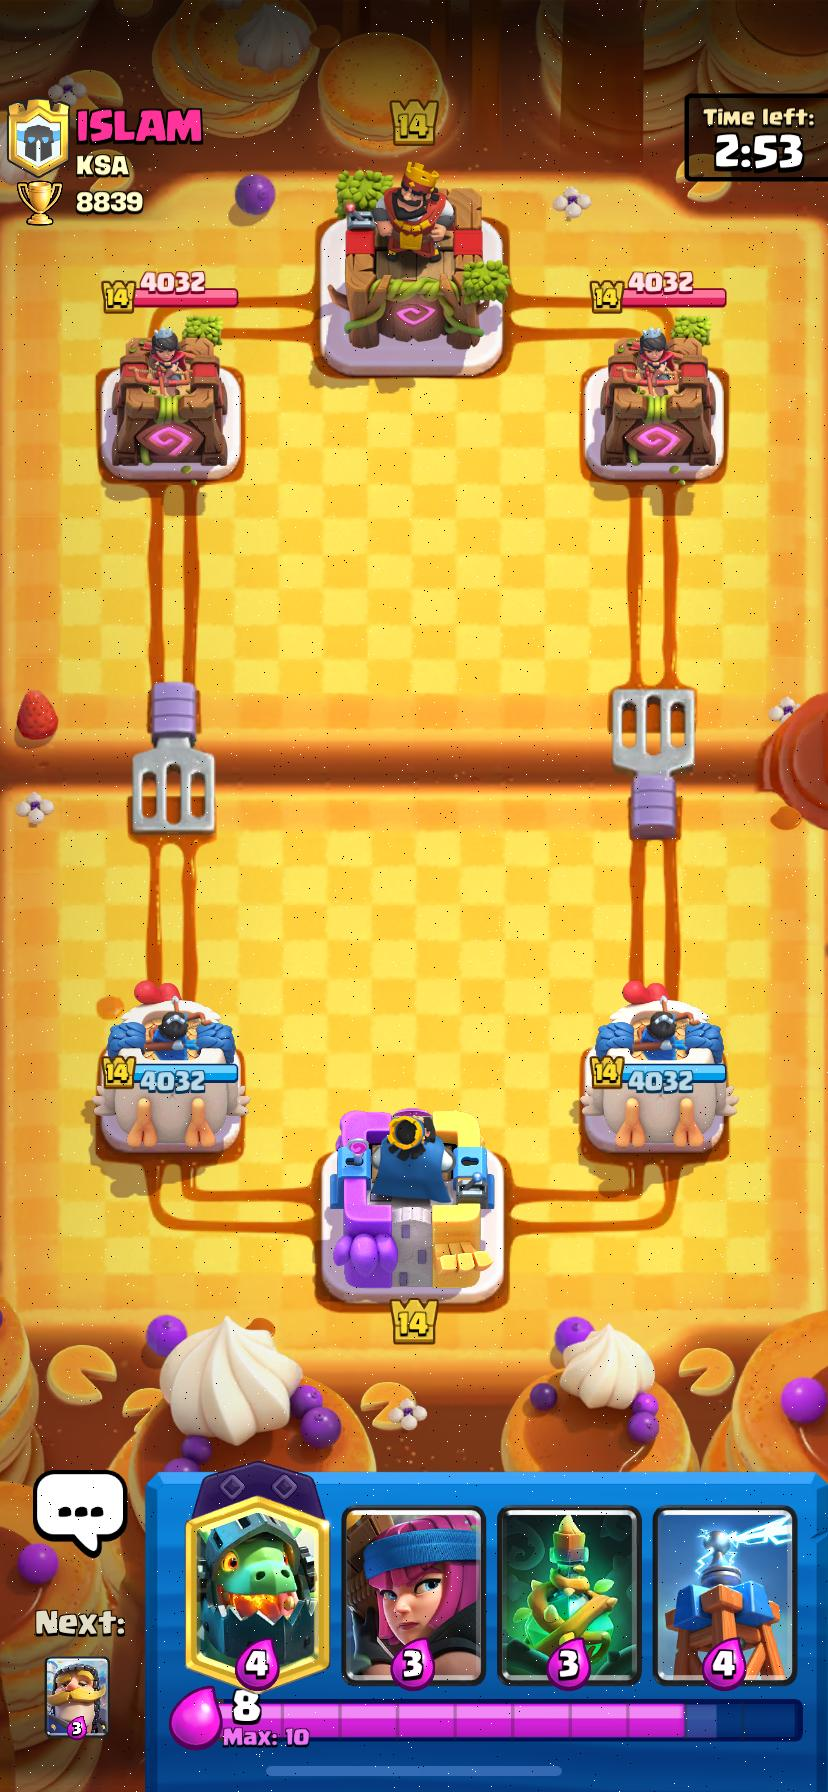EKingTower: (344, 163, 508, 351)
EnemyPrincessTower: (112, 326, 226, 473), (600, 328, 712, 469)
OwnKingTower: (321, 1109, 503, 1303)
OwnPrincessTower: (580, 982, 735, 1154), (93, 983, 248, 1152)
